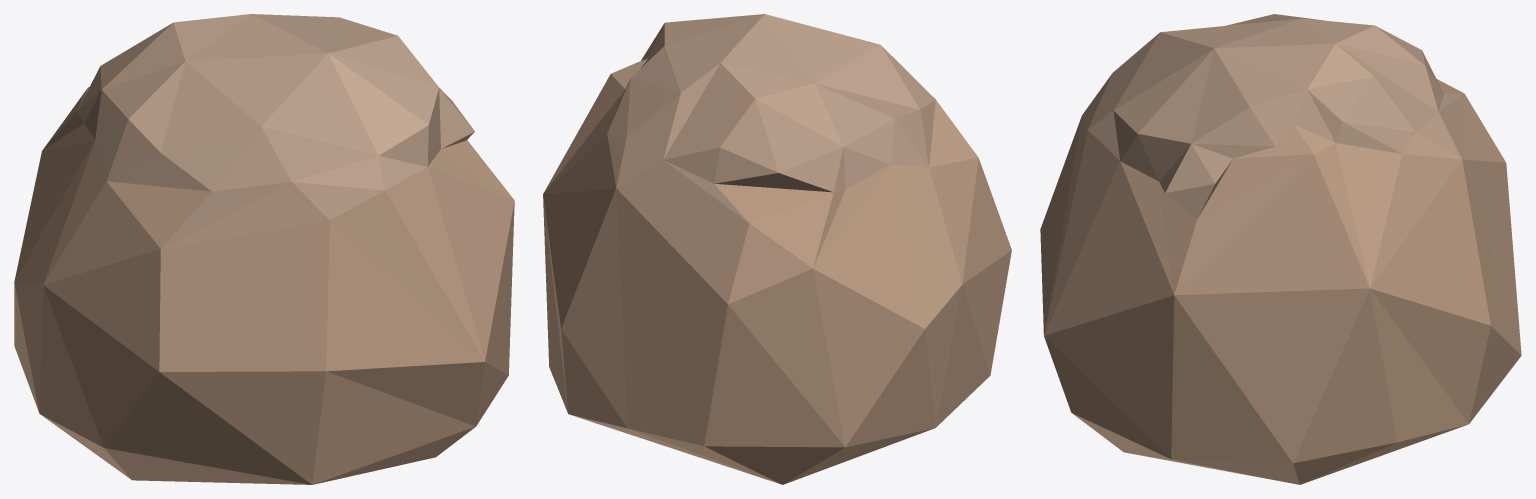
File: rock_sand.glb
The picture shows the model from 3 angles, left to right: view 1: azimuth 30°, elevation 25°; view 2: azimuth 150°, elevation 25°; view 3: azimuth 270°, elevation 25°; orthographic projection. The views are drawn at different scales.
Parts seen in each view (by area): view 1: scenery; view 2: scenery; view 3: scenery.
Boxes of the visible parts, x1,y1,x2,y2 form: scenery: (14, 14, 514, 484); scenery: (543, 14, 1011, 484); scenery: (1040, 14, 1521, 484).
Size of the model in its own units: 1.16 by 1 by 1.16.
